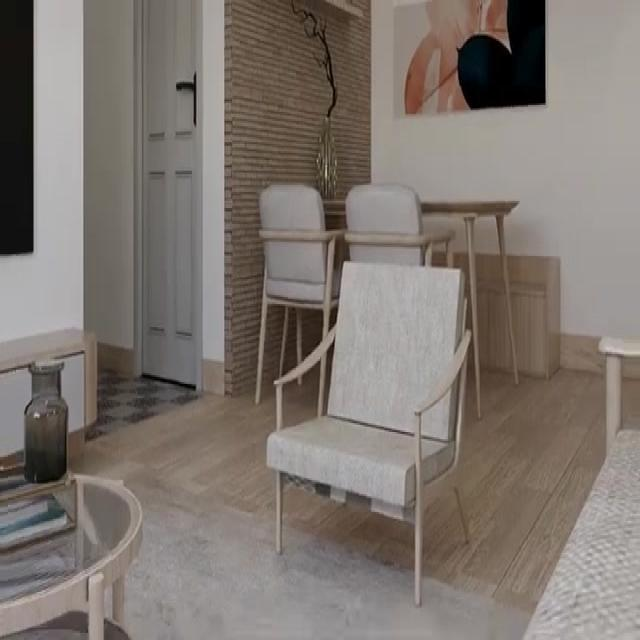door: (140, 0, 200, 389)
obstacle: (265, 259, 472, 606), (0, 462, 143, 638), (254, 181, 340, 409), (344, 181, 453, 267)
